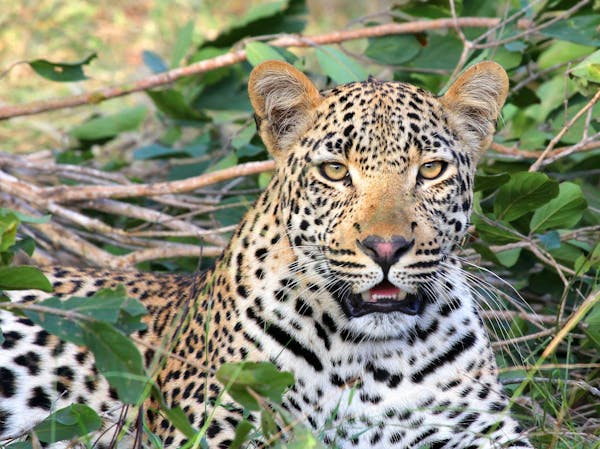Leopard: (1, 60, 536, 449)
